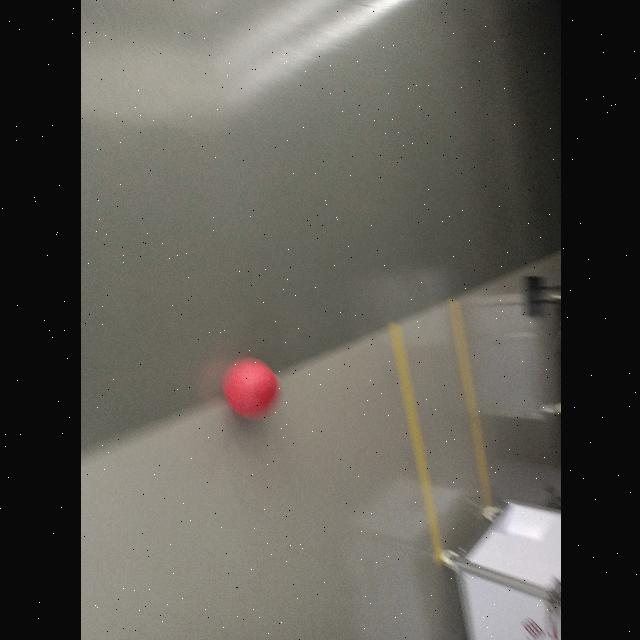R: (223, 357, 279, 417)
